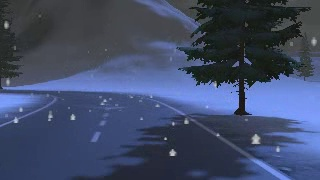Lane: (0, 91, 292, 179)
